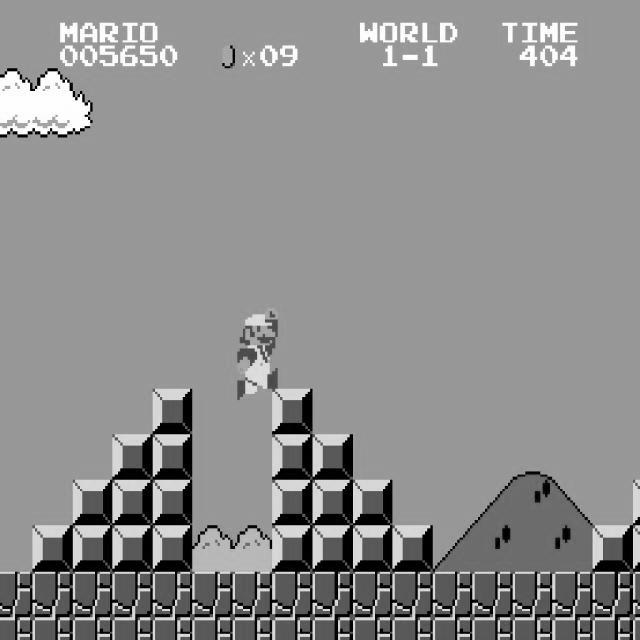17- undestructible_block: (32, 572, 73, 618), (72, 572, 113, 618), (112, 572, 153, 618), (152, 572, 193, 618), (192, 572, 233, 618), (232, 572, 273, 618), (272, 572, 313, 618), (312, 572, 353, 618), (352, 572, 393, 618), (392, 572, 433, 618), (432, 572, 473, 618), (472, 572, 513, 618), (512, 572, 553, 618), (552, 572, 593, 618), (592, 572, 633, 618), (0, 571, 32, 617), (32, 617, 73, 640), (72, 617, 113, 640), (112, 617, 153, 640), (152, 617, 193, 640), (192, 617, 233, 640), (232, 617, 273, 640), (272, 617, 313, 640), (312, 617, 353, 640), (352, 617, 393, 640), (392, 617, 433, 640), (432, 617, 473, 640), (472, 617, 513, 640), (512, 617, 553, 640), (552, 617, 593, 640), (592, 617, 633, 640), (0, 617, 32, 639), (633, 572, 640, 618), (633, 617, 640, 640)
4- fire_mario: (235, 306, 278, 400)
9- hard_block: (32, 526, 73, 572), (72, 480, 113, 526), (72, 526, 113, 572), (112, 434, 153, 480), (112, 480, 153, 526), (112, 526, 153, 572), (152, 388, 193, 434), (152, 434, 193, 480), (152, 480, 193, 526), (152, 526, 193, 572), (272, 388, 313, 434), (272, 434, 313, 480), (272, 480, 313, 526), (272, 526, 313, 572), (312, 434, 353, 480), (312, 480, 353, 526), (312, 526, 353, 572), (352, 480, 393, 526), (352, 526, 393, 572), (392, 526, 433, 572), (592, 526, 633, 572), (633, 480, 640, 526), (633, 526, 640, 572)
